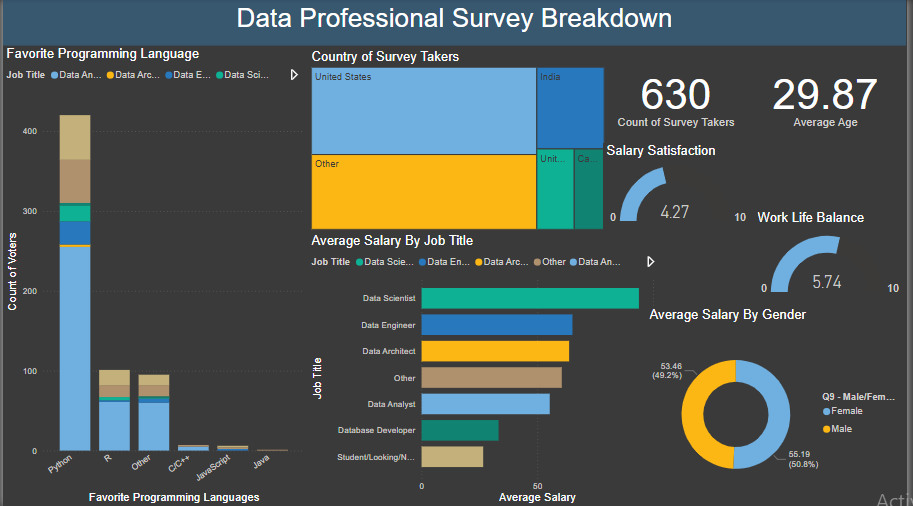

What the dashboard file says about the page in this screenshot:
{"tool":"powerbi","page":{"name":"Page 1","canvas":[1280,720],"ordinal":0},"visuals":[{"type":"textbox","box":[0,0,1280,66],"z":0},{"type":"card","fields":{"Values":["Count(Data Professional Survey.Unique ID)"]},"box":[844.9,70.6,218.4,134.4],"z":1000},{"type":"card","fields":{"Values":["Avg(Data Professional Survey.Q10 - Current Age)"]},"box":[1051.5,70.6,228.5,134.4],"z":2000},{"type":"barChart","title":"Average Salary By Job Title","fields":{"Category":["Data Professional Survey.Q1 - Which Title Best Fits your Current Role?.1"],"Series":["Data Professional Survey.Q1 - Which Title Best Fits your Current Role?.1"],"Y":["Avg(Data Professional Survey.Average Salary)"]},"box":[432,331.2,505.4,388.8],"z":3000},{"type":"columnChart","title":"Favorite Programming Language","fields":{"Category":["Data Professional Survey.Q5 - Favorite Programming Language.1"],"Y":["CountNonNull(Data Professional Survey.Unique ID)"],"Series":["Data Professional Survey.Q1 - Which Title Best Fits your Current Role?.1"]},"box":[0,66.2,432,653.8],"z":4000},{"type":"treemap","title":"Country of Survey Takers","fields":{"Values":["CountNonNull(Data Professional Survey.Q11 - Which Country do you live in?.1)"],"Group":["Data Professional Survey.Q11 - Which Country do you live in?.1"]},"box":[432,70.6,424.8,260.6],"z":5000},{"type":"gauge","title":"Salary Satisfaction ","fields":{"Y":["Avg(Data Professional Survey.Q6 - How Happy are you in your Current Position with the following? (Salary))"],"MaxValue":["Max(Data Professional Survey.Q6 - How Happy are you in your Current Position with the following? (Salary))1"],"MinValue":["Min(Data Professional Survey.Q6 - How Happy are you in your Current Position with the following? (Salary))2"]},"box":[851,204.5,213.1,126.7],"z":6000},{"type":"gauge","title":"Work Life Balance","fields":{"Y":["Avg(Data Professional Survey.Q6 - How Happy are you in your Current Position with the following? (Work/Life Balance))"],"MinValue":["Min(Data Professional Survey.Q6 - How Happy are you in your Current Position with the following? (Work/Life Balance))1"],"MaxValue":["Max(Data Professional Survey.Q6 - How Happy are you in your Current Position with the following? (Work/Life Balance))2"]},"box":[1064.2,299.5,216,136.8],"z":7000},{"type":"donutChart","title":"Average Salary By Gender","fields":{"Category":["Data Professional Survey.Q9 - Male/Female?"],"Y":["Avg(Data Professional Survey.Average Salary)"]},"box":[911.2,436.1,368.8,283.7],"z":8000}]}

Visuals, with their boxes in screenshot pixels (x1, y1, x2, y2), scaled from the page's 1280x720 canvas onto the 913x506 screenshot:
textbox: bbox(0, 0, 912, 46)
card - Count(Data Professional Survey.Unique ID): bbox(603, 50, 758, 144)
card - Avg(Data Professional Survey.Q10 - Current Age): bbox(750, 50, 912, 144)
"Average Salary By Job Title" barChart: bbox(308, 233, 669, 505)
"Favorite Programming Language" columnChart: bbox(0, 47, 308, 505)
"Country of Survey Takers" treemap: bbox(308, 50, 611, 233)
"Salary Satisfaction " gauge: bbox(607, 144, 759, 233)
"Work Life Balance" gauge: bbox(759, 210, 912, 307)
"Average Salary By Gender" donutChart: bbox(650, 306, 912, 505)
